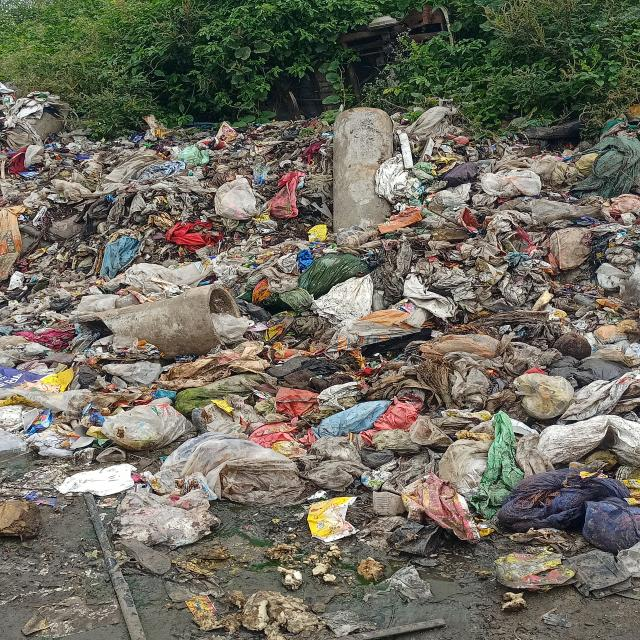garbage: (4, 91, 640, 613)
